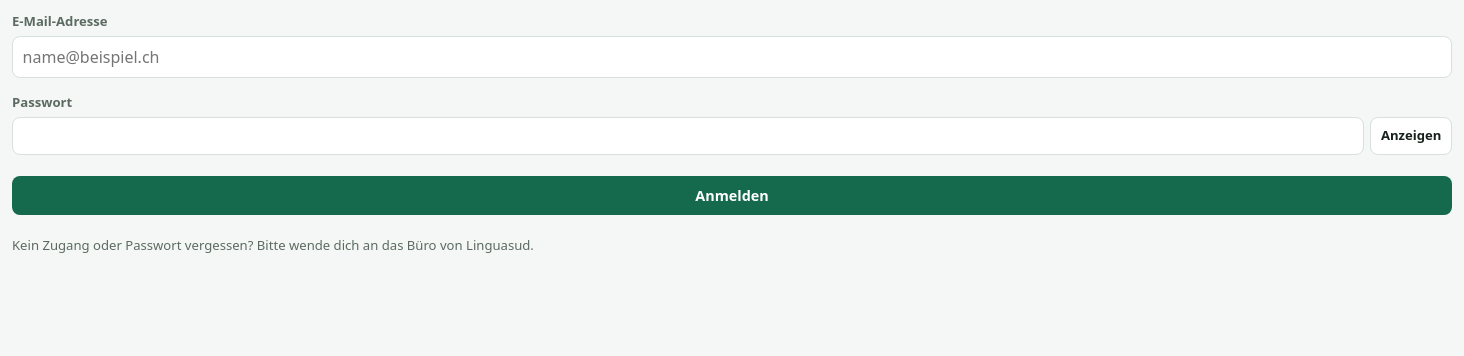
LoginForm › shows the server error without navigating
Type "buero@linguasud.ch" into the field labelled "E-Mail-Adresse" at coordinates (732, 58), box [12,36,1452,78]
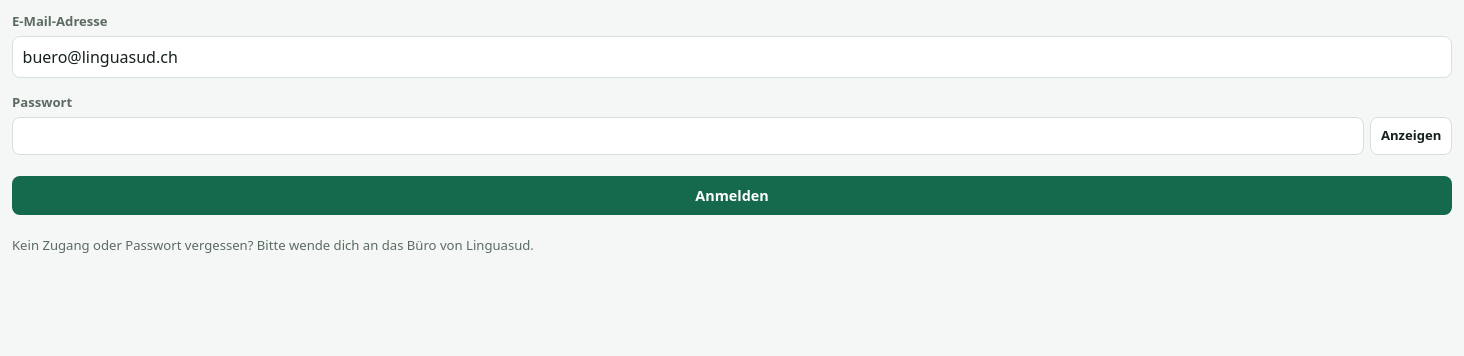
Type "sicheres-passwort" into the password field labelled "Passwort" at coordinates (688, 136), box [12,117,1364,155]
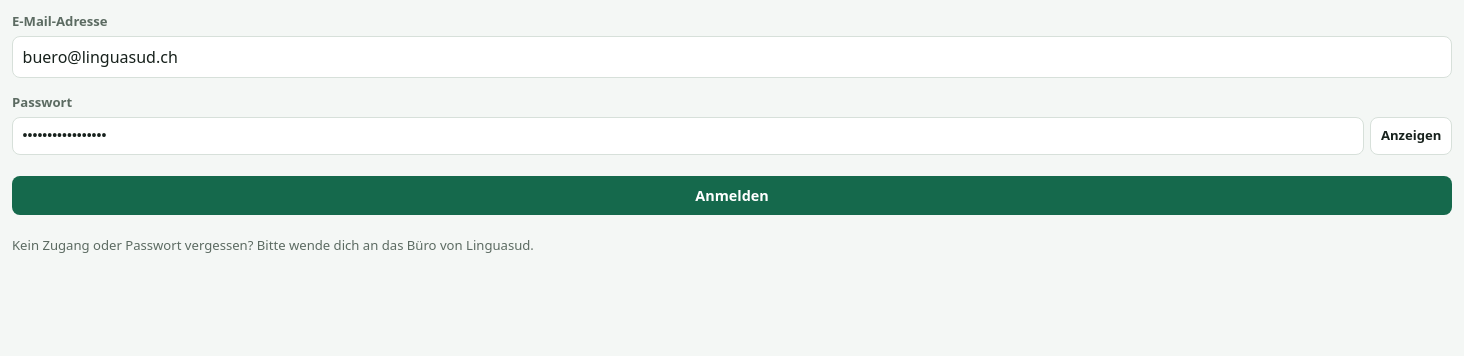
Click the button "Anmelden" at coordinates (732, 196), box [12,176,1452,215]
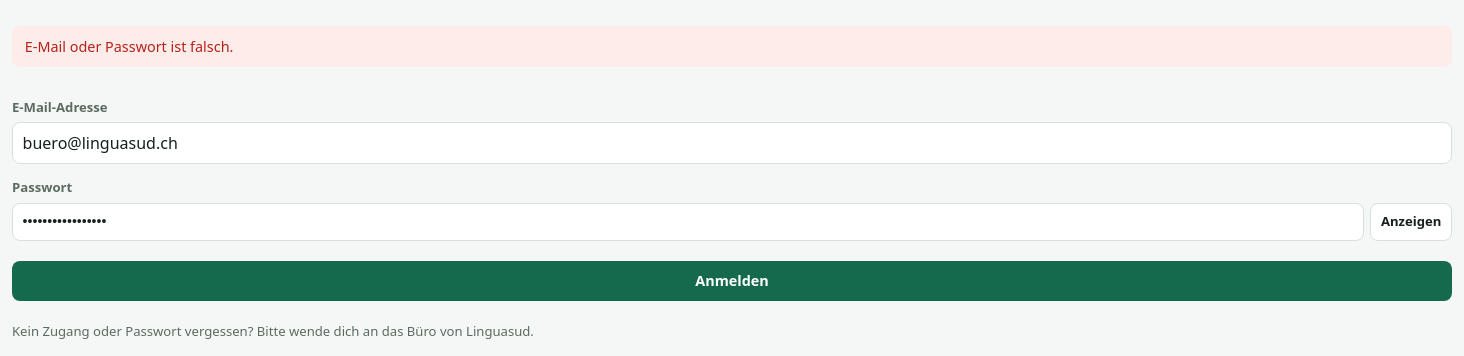
Result: the message reads "E-Mail oder Passwort ist falsch." at [25,37,233,56]
